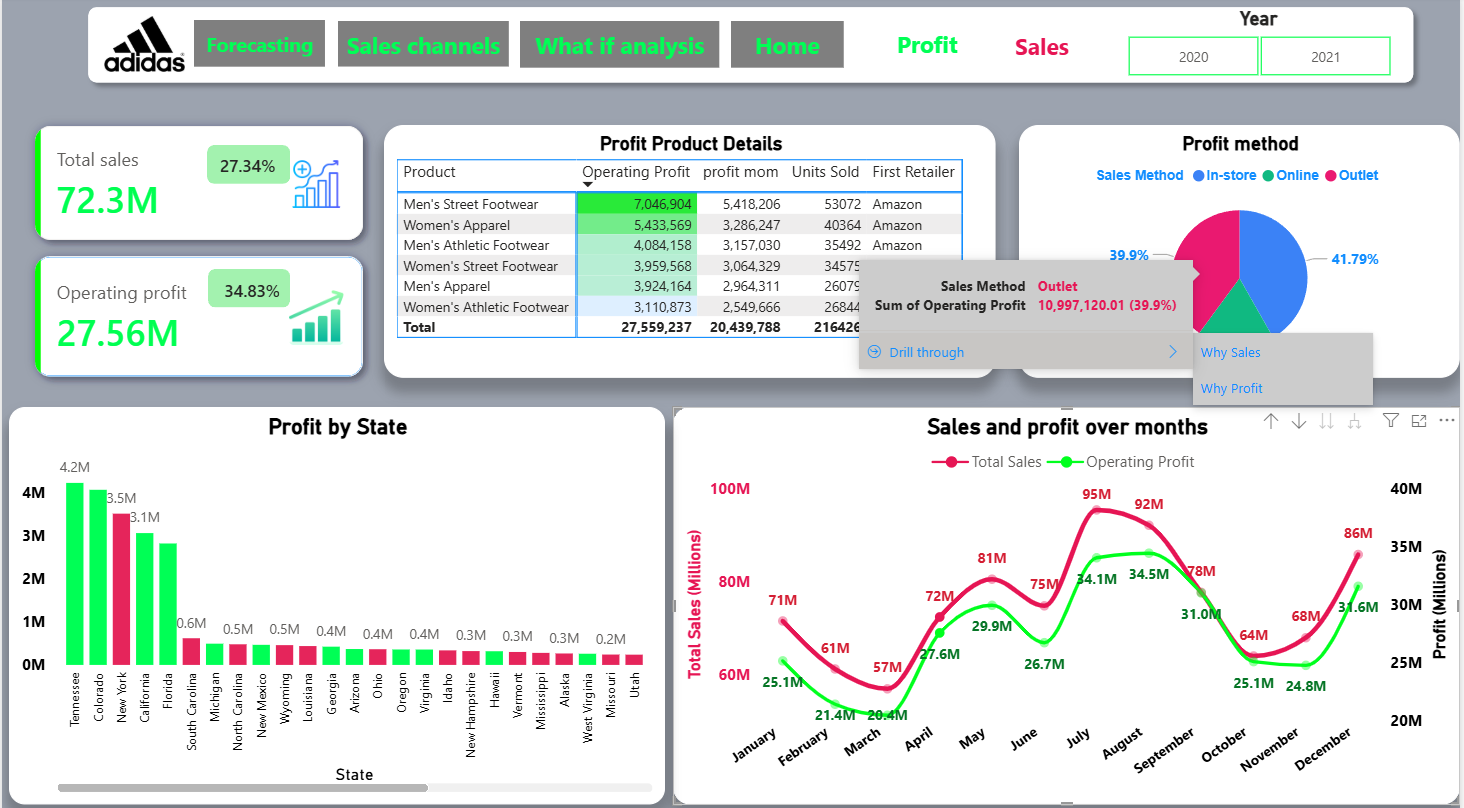

The dashboard page shown, as its layout file describes it:
{"tool":"powerbi","page":{"name":"Sales performance","canvas":[1280,720],"ordinal":1},"visuals":[{"type":"shape","title":"Navigation bar","box":[66.6,0,1181.4,84],"z":0},{"type":"cardVisual","title":"Total sales","fields":{"Data":["Sum(Data.Total Sales)"]},"box":[0,84,346,158.9],"z":1000},{"type":"cardVisual","fields":{"Data":["Sum(Data.Operating Profit)"]},"box":[0,198.1,346,164.3],"z":2000},{"type":"shape","box":[180.2,130.1,73,34.2],"z":3000},{"type":"cardVisual","fields":{"Data":["Data.Dynamic_Growth_Status"]},"box":[154,117.5,124.3,58.2],"z":4000},{"type":"slicer","title":"Year","fields":{"Values":["Date.Date.Variation.Date Hierarchy.Year"]},"box":[963,9.2,280.4,66.9],"z":5000},{"type":"shape","box":[180.8,239.2,72.1,33.8],"z":6000},{"type":"cardVisual","fields":{"Data":["Data.Dynamic_Growth_profit"]},"box":[154.3,226.7,130.5,59],"z":7000},{"type":"lineChart","title":"Sales and profit over months","fields":{"Category":["Date.Date.Variation.Date Hierarchy.Year","Date.Date.Variation.Date Hierarchy.Month"],"Y":["Sum(Data.Total Sales)"],"Y2":["Sum(Data.Operating Profit)"]},"box":[589.2,360,691,349.5],"z":8000},{"type":"pieChart","title":"Profit method","fields":{"Category":["Data.Sales Method"],"Y":["Sum(Data.Operating Profit)"]},"box":[893,112.4,387.2,222.1],"z":11000},{"type":"pivotTable","title":"Profit Product Details","fields":{"Rows":["Data.Product"],"Values":["Sum(Data.Operating Profit)","Data.profit mom","Sum(Data.Units Sold)","Min(Data.Retailer)"]},"box":[335.4,112.5,537.4,221.8],"z":12000},{"type":"columnChart","title":"Profit by State","fields":{"Category":["Data.State"],"Y":["Sum(Data.Operating Profit)"]},"box":[6.1,360,576,349.5],"z":13000},{"type":"actionButton","box":[863.1,22.9,99.9,39.4],"z":14000},{"type":"actionButton","box":[762.3,20.2,100.8,41.2],"z":15000},{"type":"actionButton","title":"Home","box":[640.5,21.1,99,41.2],"z":16000},{"type":"actionButton","box":[454.5,21.1,175,41.2],"z":17000},{"type":"actionButton","box":[295,21.1,150.3,40.3],"z":18000},{"type":"actionButton","box":[168.6,20.2,115.4,41.2],"z":20000},{"type":"image","box":[81.5,16.5,87,48.6],"z":21000}]}

Visuals, with their boxes in screenshot pixels (x1, y1, x2, y2), scaled from the page's 1280x720 canvas onto the 1464x808 screenshot:
"Navigation bar" shape: 76/0/1427/94
"Total sales" cardVisual: 0/94/396/273
cardVisual - Sum(Data.Operating Profit): 0/222/396/407
shape: 206/146/290/184
cardVisual - Data.Dynamic_Growth_Status: 176/132/318/197
"Year" slicer: 1101/10/1422/85
shape: 207/268/289/306
cardVisual - Data.Dynamic_Growth_profit: 176/254/326/321
"Sales and profit over months" lineChart: 674/404/1463/796
"Profit method" pieChart: 1021/126/1463/375
"Profit Product Details" pivotTable: 384/126/998/375
"Profit by State" columnChart: 7/404/666/796
actionButton: 987/26/1101/70
actionButton: 872/23/987/69
"Home" actionButton: 733/24/846/70
actionButton: 520/24/720/70
actionButton: 337/24/509/69
actionButton: 193/23/325/69
image: 93/19/193/73
